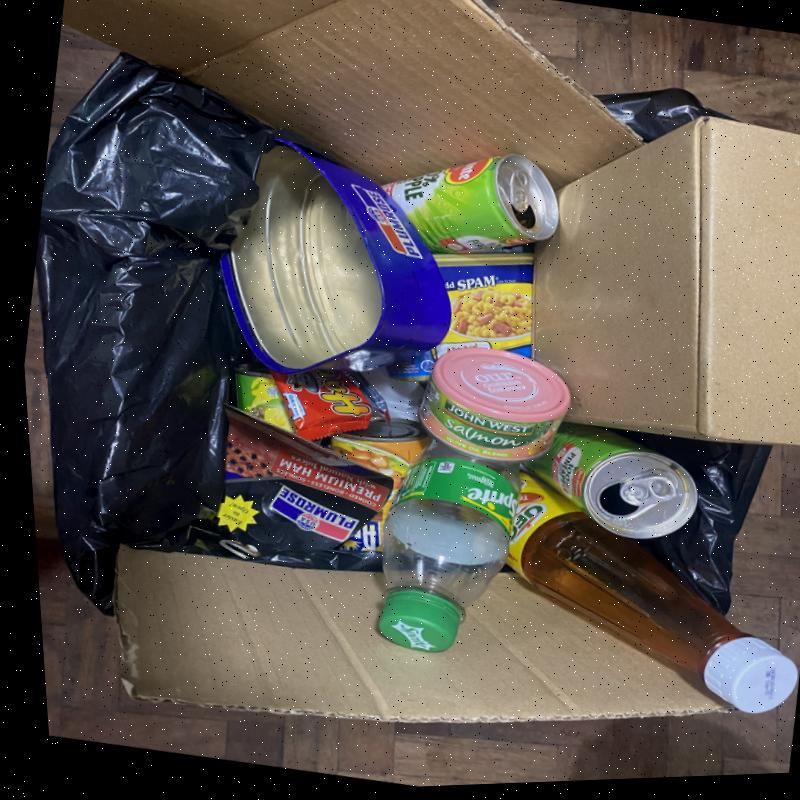aluminum: (220, 138, 453, 376), (522, 422, 698, 540), (386, 253, 534, 382), (418, 347, 571, 465), (380, 154, 559, 254), (330, 417, 429, 552), (234, 363, 297, 433)
cardboard: (61, 0, 645, 189), (531, 117, 800, 447)
food wrapper: (217, 403, 394, 553), (269, 369, 392, 440)
glass bottle: (506, 470, 798, 714)
plastic bottle: (378, 440, 521, 653)
